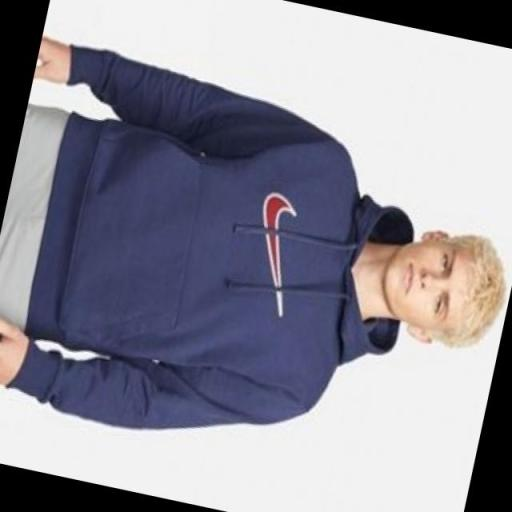Nike: (223, 165, 318, 334)
